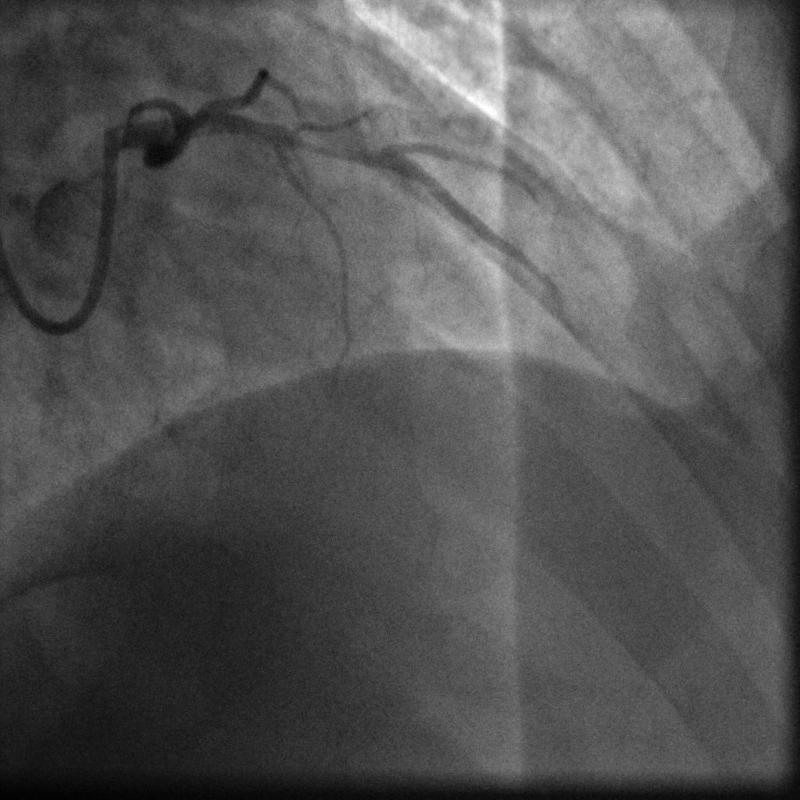Stenosis: (293, 131, 377, 164)
